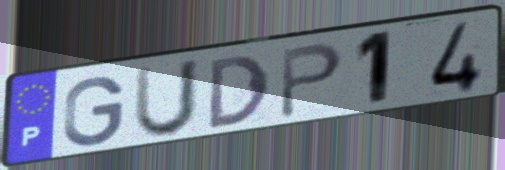1: (351, 28, 393, 110)
4: (427, 19, 485, 96)
D: (207, 52, 273, 132)
G: (61, 74, 129, 149)
P: (277, 40, 347, 122)
U: (130, 56, 204, 141)
